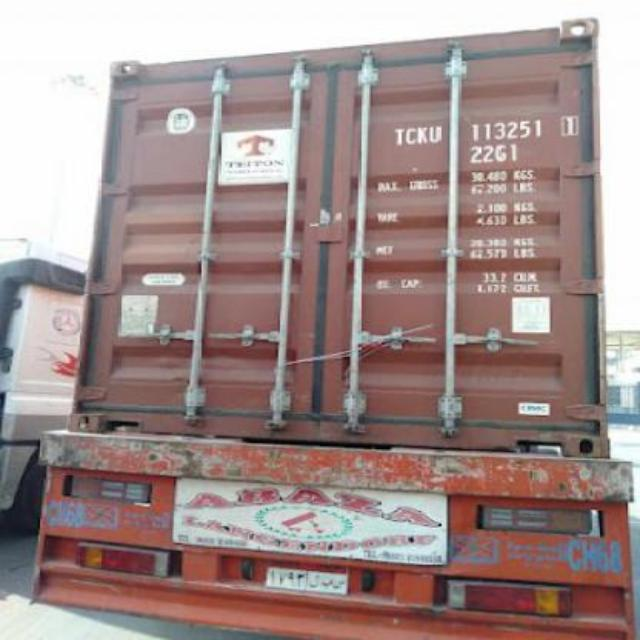1: (560, 112, 580, 138), (532, 114, 544, 138), (481, 120, 494, 142), (468, 120, 480, 142)
2: (504, 118, 520, 142)
3: (494, 119, 506, 143)
5: (518, 116, 532, 140)
C: (404, 125, 418, 146)
K: (416, 122, 429, 144)
T: (392, 122, 406, 148)
U: (428, 116, 442, 146)
